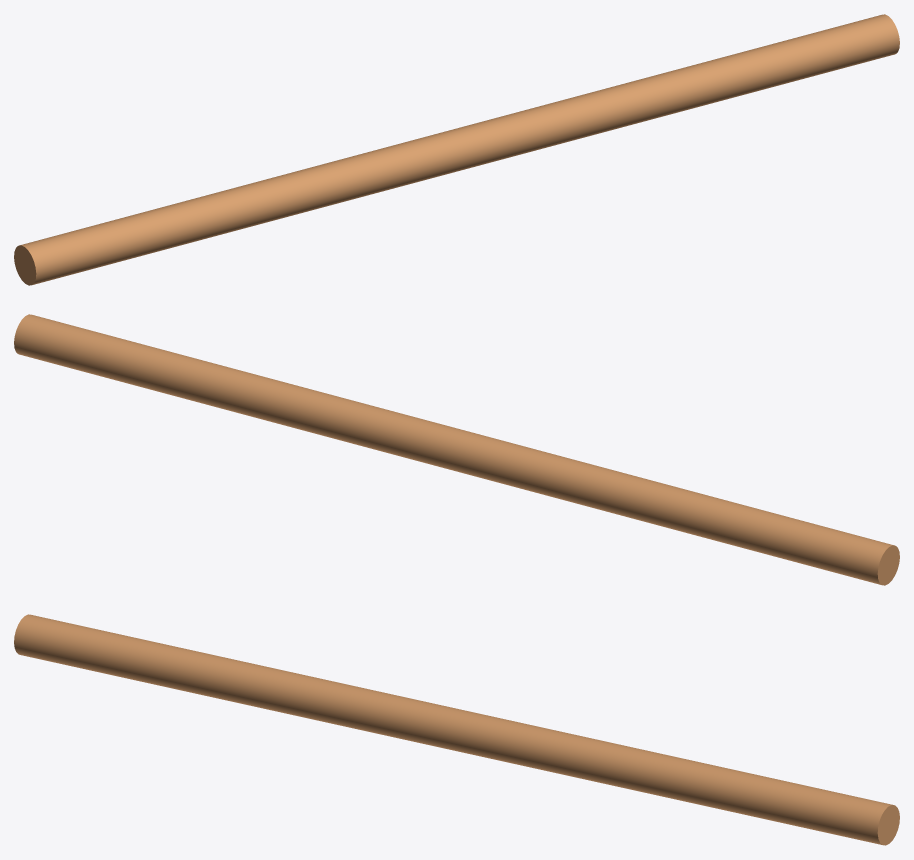
The model's file is tubo.fbx.
The picture shows the model from 3 angles, top to bottom: view 1: azimuth 30°, elevation 25°; view 2: azimuth 150°, elevation 25°; view 3: azimuth 330°, elevation 25°; orthographic projection.
Visible parts, largest first — view 1: Cylinder__4_; view 2: Cylinder__4_; view 3: Cylinder__4_.
Part boxes in pixels (left/top/right/bottom): Cylinder__4_: left=14, top=14, right=899, bottom=285; Cylinder__4_: left=14, top=314, right=899, bottom=585; Cylinder__4_: left=14, top=614, right=899, bottom=845.
Bounding box in the file's own units: 27.87 × 1.77 × 1.24.
